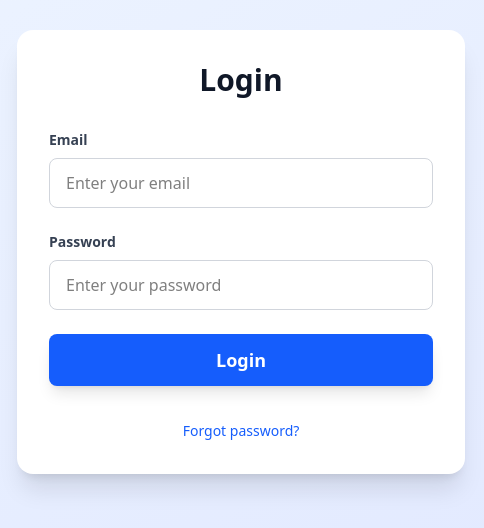
Test: LoginForm › shows validation errors for invalid email
Type "invalid-email" into the field labelled "Email" at (241, 183), box [49,158,433,208]
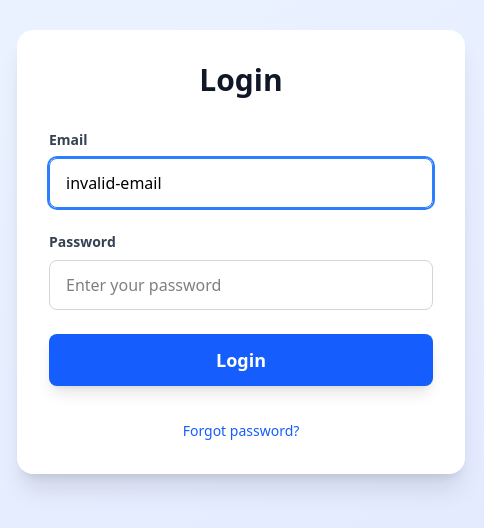
Type "Test1234!" into the password field labelled "Password" at (241, 285), box [49,260,433,310]
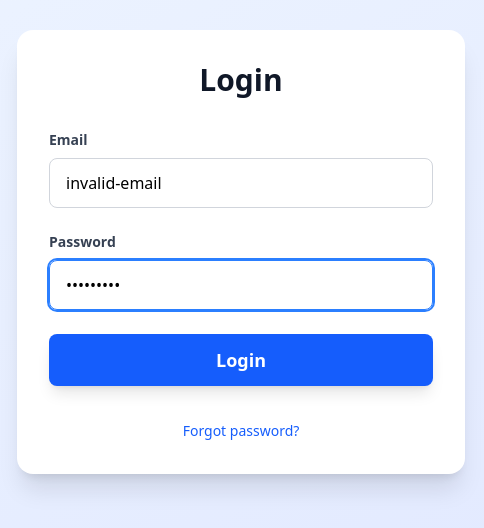
Click the button "Login" at (241, 360), box [49,334,433,386]
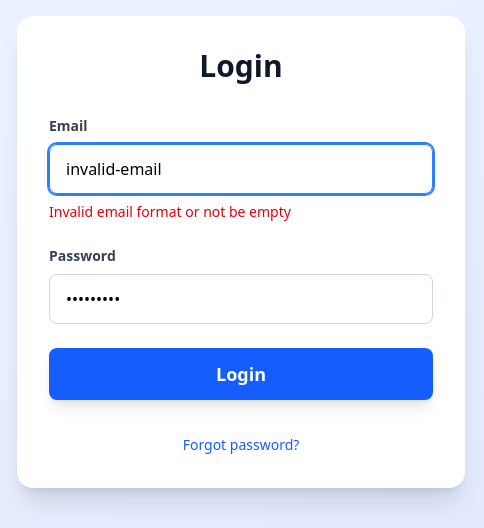
Expected: the text "Invalid email format or not be empty" is shown, [49,202,291,221]
